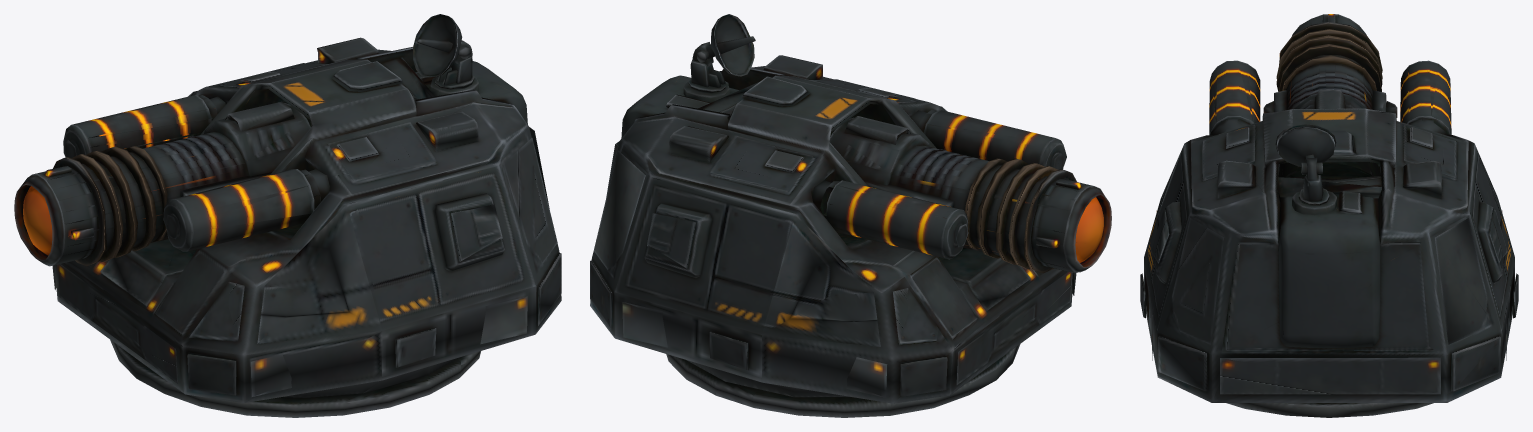
File: enemy_laser_turret.glb
3 renders of one model, left to right at view 1: azimuth 30°, elevation 25°; view 2: azimuth 150°, elevation 25°; view 3: azimuth 270°, elevation 25°, orthographic. The views are drawn at different scales.
Visible parts, largest first — view 1: geometry_0; view 2: geometry_0; view 3: geometry_0.
Part boxes in pixels (x1=…): geometry_0: x1=14, y1=14, x2=561, y2=417; geometry_0: x1=590, y1=14, x2=1111, y2=417; geometry_0: x1=1140, y1=14, x2=1518, y2=417.
Bounding box in the file's own units: 0.957 × 0.5669 × 0.687.
Materials: 1 (1 with a texture image).
